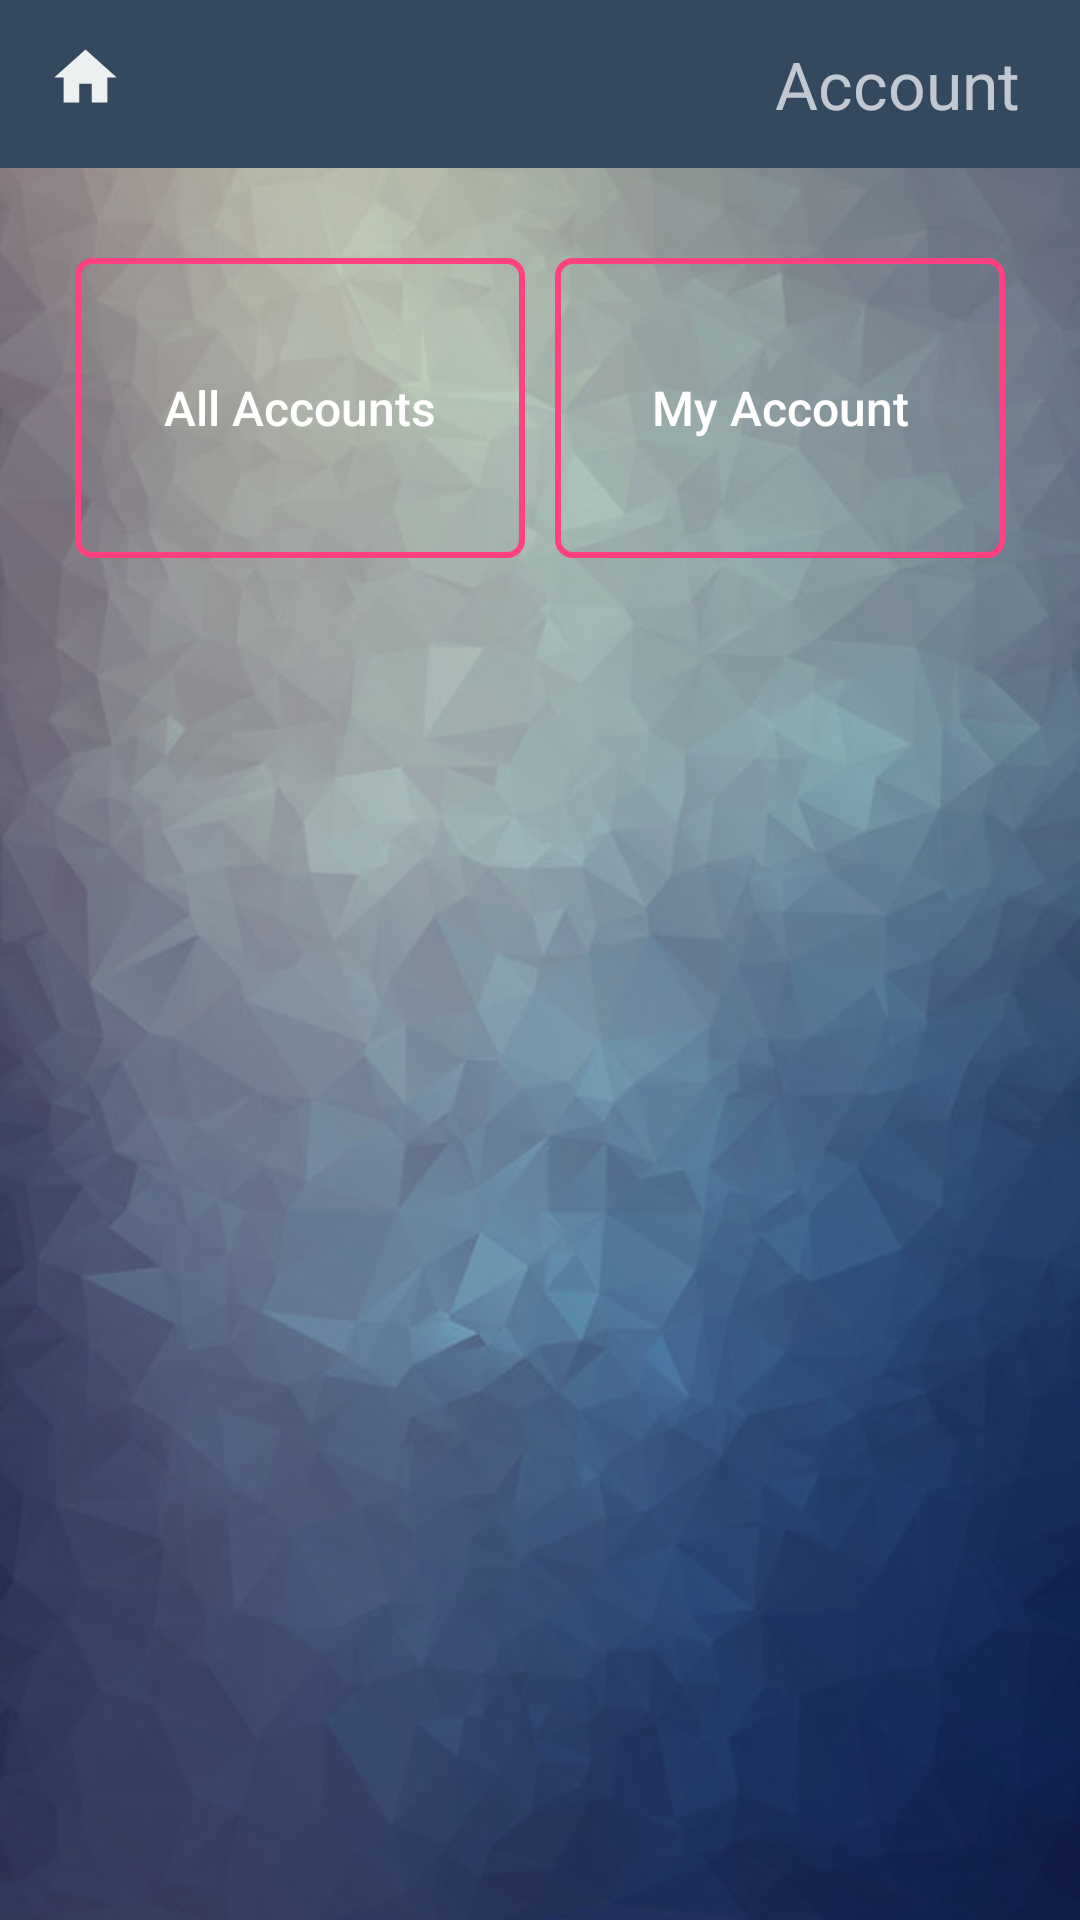

Screen size 1080x1920. Icon name, then its center in pixels as (x=x, y=y):
home: (x=85, y=76)
